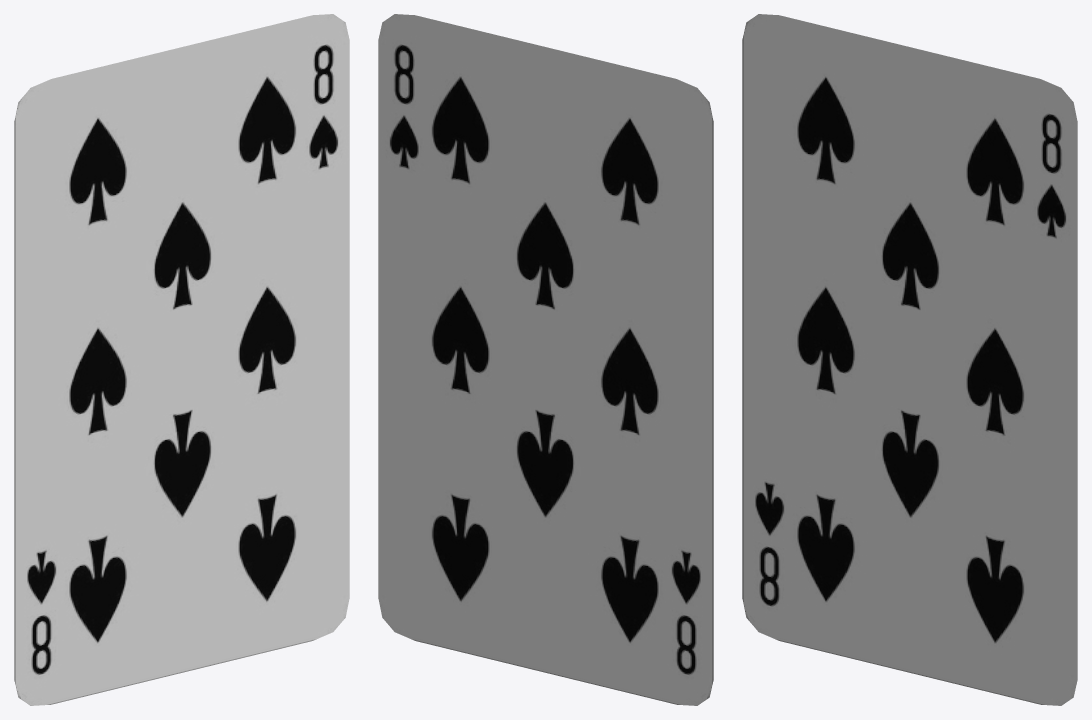
File: 8_spades.glb
3 views of the same model, side by side, from view 1: azimuth 30°, elevation 25°; view 2: azimuth 150°, elevation 25°; view 3: azimuth 330°, elevation 25° (orthographic).
Parts seen in each view (by area): view 1: Eight of Spades_19 - Default_0; view 2: Eight of Spades_19 - Default_0; view 3: Eight of Spades_19 - Default_0.
Boxes of the visible parts, x1=… form: Eight of Spades_19 - Default_0: x1=14, y1=14, x2=349, y2=705; Eight of Spades_19 - Default_0: x1=378, y1=14, x2=713, y2=705; Eight of Spades_19 - Default_0: x1=742, y1=14, x2=1077, y2=705.
Size of the model in its own units: 0.2527 by 0.4503 by 2.78e-17.
1 material, 1 textured.
